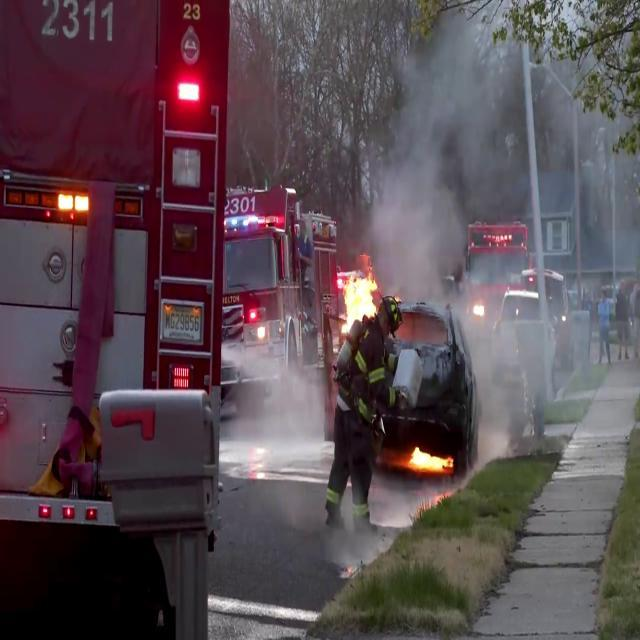Fire: (337, 253, 381, 333), (404, 438, 450, 480)
Smoke: (357, 2, 640, 293)
